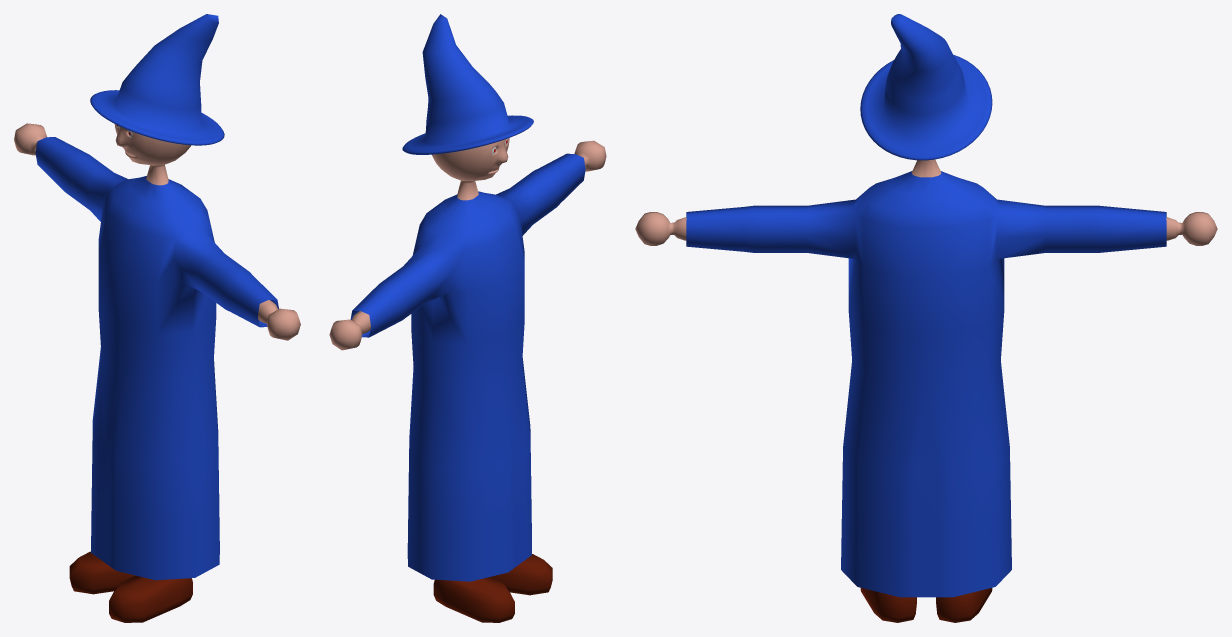
File: mage.fbx
3 renders of one model, left to right at view 1: azimuth 30°, elevation 25°; view 2: azimuth 150°, elevation 25°; view 3: azimuth 270°, elevation 25°, orthographic. The views are drawn at different scales.
Parts seen in each view (by area): view 1: Cylinder; view 2: Cylinder; view 3: Cylinder.
Boxes of the visible parts, bbox=[...] form: Cylinder: bbox=[14, 14, 300, 622]; Cylinder: bbox=[329, 14, 606, 622]; Cylinder: bbox=[635, 14, 1217, 622].
Size of the model in its own units: 148 by 638 by 543.
